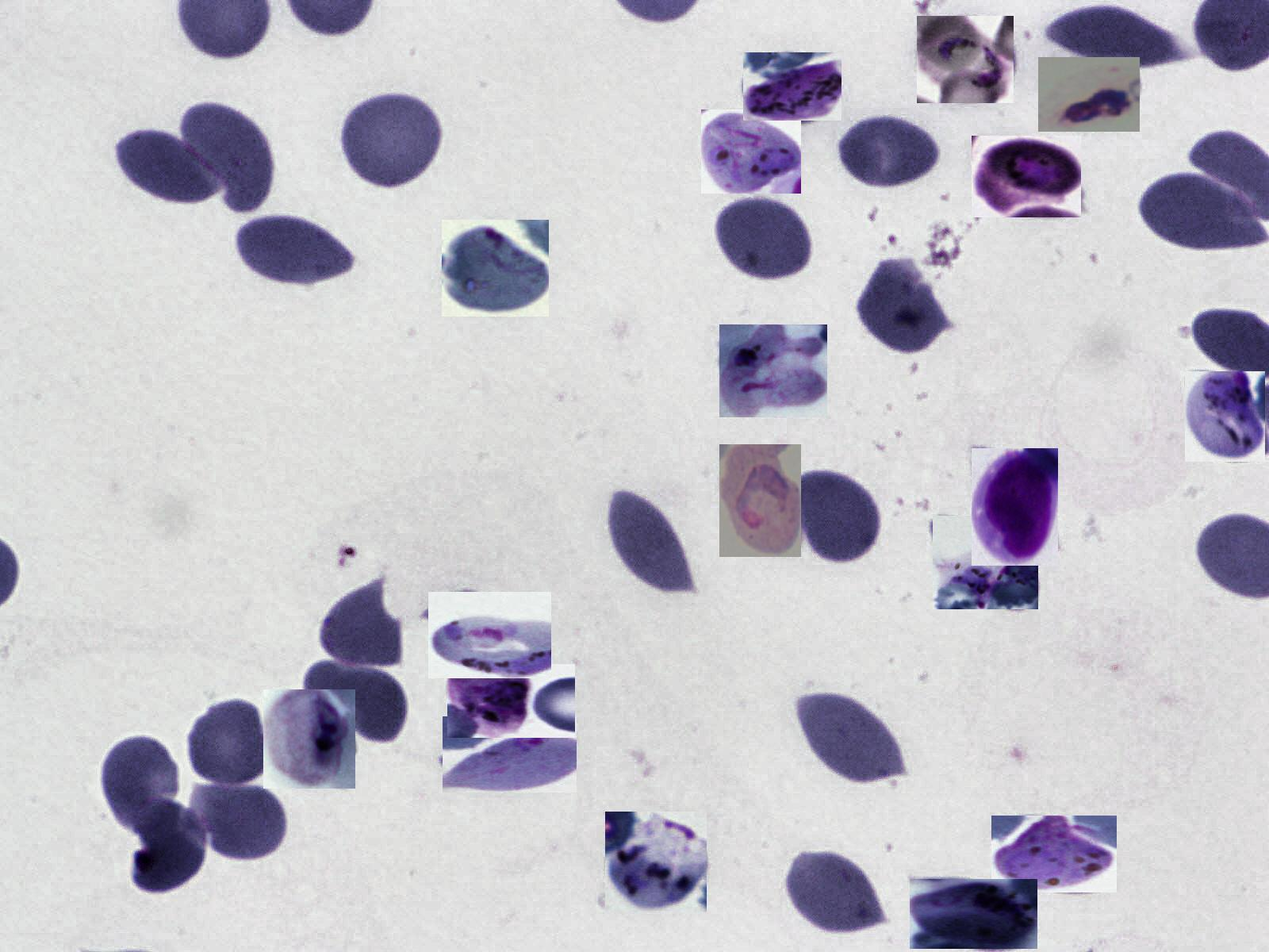Infected: (428, 592, 551, 678), (442, 220, 549, 317), (443, 716, 577, 793), (972, 448, 1058, 566), (606, 812, 707, 912), (719, 324, 827, 417), (933, 516, 1038, 609), (991, 816, 1117, 892), (447, 664, 575, 738), (719, 444, 801, 557), (263, 689, 355, 789), (910, 879, 1037, 949), (972, 136, 1081, 217), (701, 109, 801, 194), (917, 16, 1014, 103), (1038, 57, 1140, 132), (1185, 371, 1265, 462), (743, 52, 842, 121)
Uninfected: (799, 693, 908, 789), (1036, 3, 1194, 68), (109, 130, 236, 209), (182, 98, 274, 207), (1137, 174, 1268, 250), (600, 492, 694, 593), (341, 93, 442, 187), (715, 194, 816, 286), (792, 466, 884, 566), (303, 658, 408, 745), (860, 256, 953, 354), (835, 109, 942, 193), (98, 733, 184, 836), (787, 850, 886, 934), (186, 697, 274, 790), (237, 216, 352, 286), (194, 781, 289, 864), (131, 800, 210, 893), (320, 581, 404, 666)
